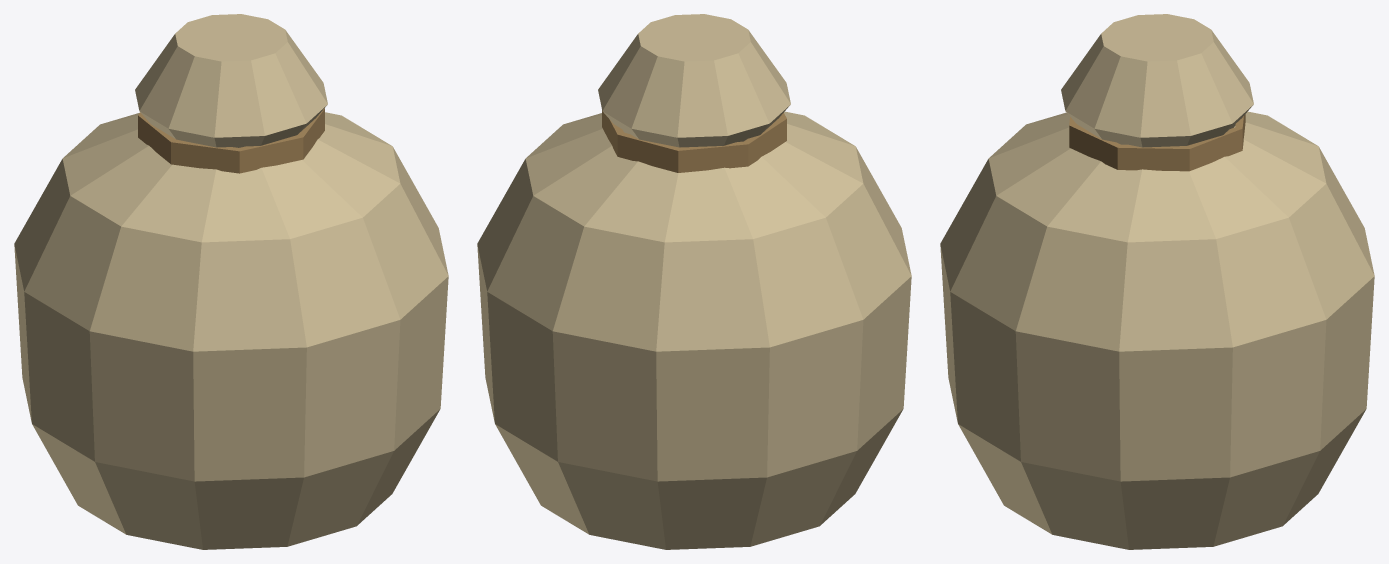
File: decorativos-costal.glb
3 views of the same model, side by side, from view 1: azimuth 30°, elevation 25°; view 2: azimuth 150°, elevation 25°; view 3: azimuth 270°, elevation 25° (orthographic).
Parts seen in each view (by area): view 1: costal_Costal, costal_Soga; view 2: costal_Costal, costal_Soga; view 3: costal_Costal, costal_Soga.
Part boxes in pixels (box(x1,y1,x2,y2)): costal_Costal: box(14, 14, 448, 549); costal_Soga: box(138, 108, 324, 173); costal_Costal: box(477, 14, 911, 549); costal_Soga: box(602, 110, 786, 172); costal_Costal: box(940, 14, 1374, 549); costal_Soga: box(1069, 114, 1245, 171).
Size of the model in its own units: 0.5318 by 0.6 by 0.5318.
